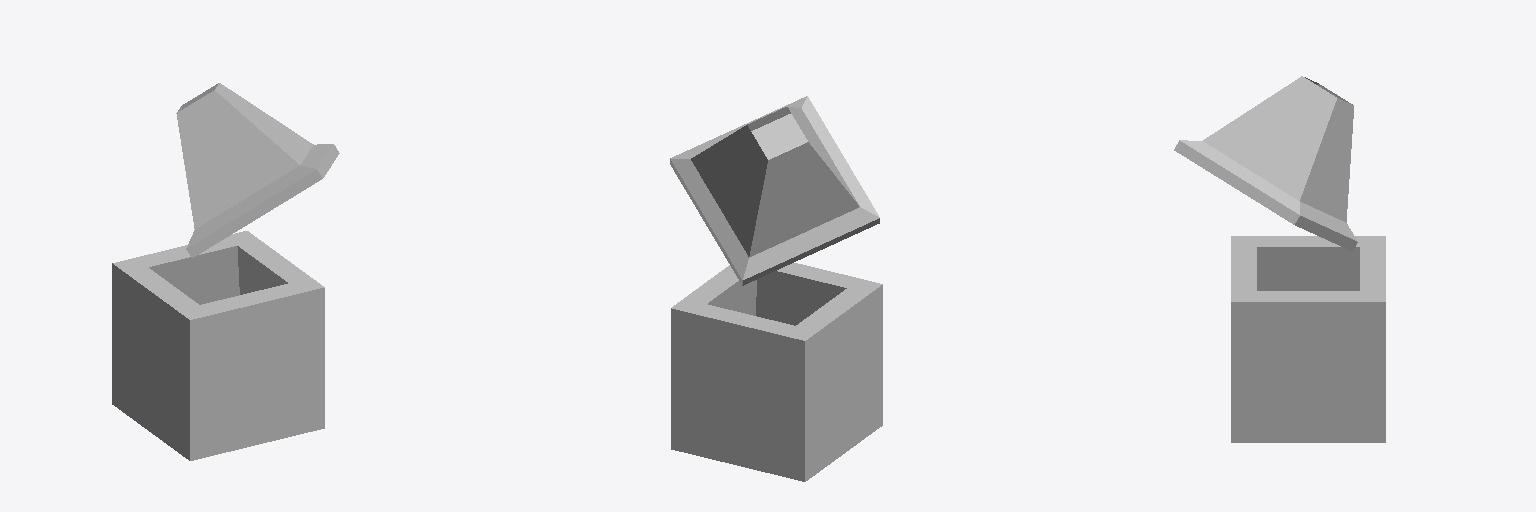
The model's file is AnimatedBox_000085.obj.
The picture shows the model from 3 angles: view 1: azimuth 30°, elevation 25°; view 2: azimuth 150°, elevation 25°; view 3: azimuth 270°, elevation 25°; orthographic projection.
Parts seen in each view (by area): view 1: Cube, Cube.001; view 2: Cube, Cube.001; view 3: Cube, Cube.001.
Boxes of the visible parts, x1=… form: Cube: x1=112, y1=231, x2=324, y2=460; Cube.001: x1=176, y1=83, x2=339, y2=257; Cube: x1=671, y1=263, x2=882, y2=481; Cube.001: x1=670, y1=96, x2=879, y2=285; Cube: x1=1231, y1=236, x2=1385, y2=442; Cube.001: x1=1174, y1=76, x2=1357, y2=251.
Size of the model in its own units: 2.7 by 4.68 by 2.73.